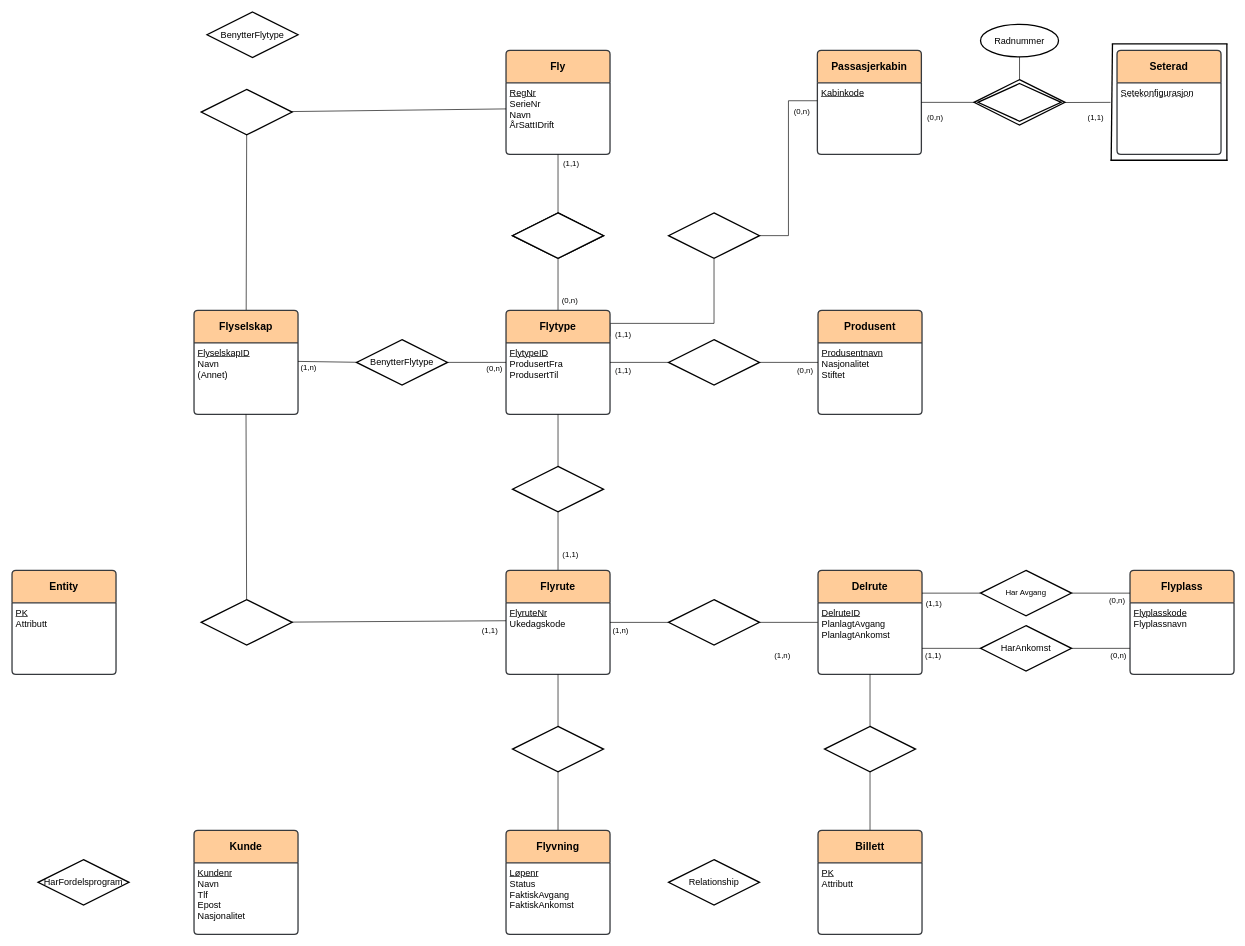
Some shapes in this 1245 by 946 pixel diagram are drawn without their labels. The centre of each missing label's shape, as x and y in pixels:
BillettBestilling: the point at 870,748
BrukesTilRute: the point at 558,488
ErFlytype: the point at 558,235
HarDelrute: the point at 714,622
HarFly: the point at 246,111
HarFlyvning: the point at 558,748
HarRader: the point at 1019,102
HarTypeKabin: the point at 714,235
OpereresAv: the point at 246,622
ProduseresAv: the point at 714,362
